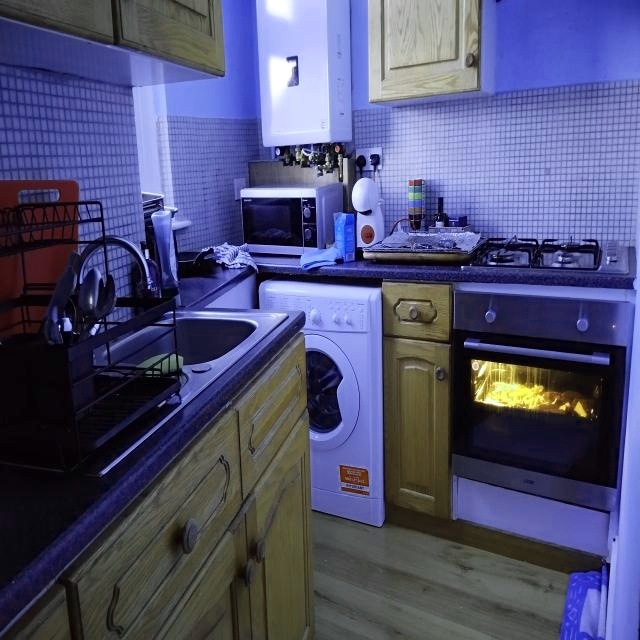cabinet: (17, 338, 310, 625), (381, 283, 452, 520), (369, 0, 482, 103)
countertop: (0, 311, 306, 634), (257, 251, 640, 293)
microwave: (238, 181, 344, 251)
oven: (451, 283, 636, 561)
shower: (93, 310, 282, 375)
sofa: (457, 236, 608, 276)
